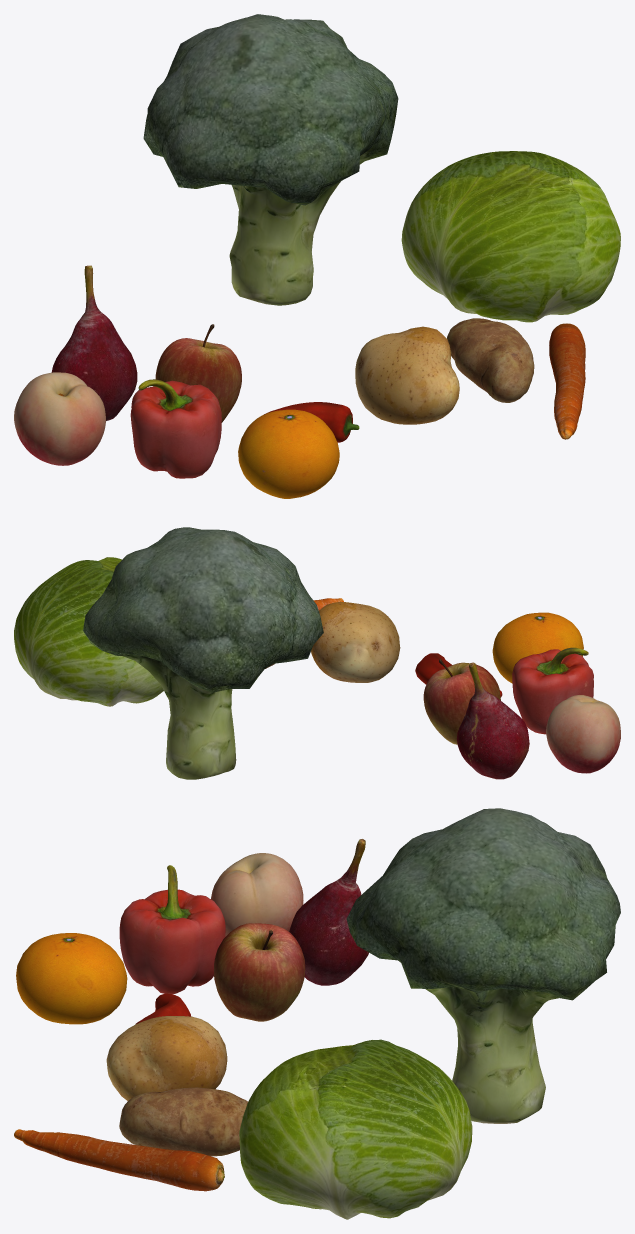
The model's file is produce.glb.
3 views of the same model, one above another, from view 1: azimuth 30°, elevation 25°; view 2: azimuth 150°, elevation 25°; view 3: azimuth 270°, elevation 25° (orthographic). The views are drawn at different scales.
Visible parts, largest first — view 1: Broccoli, Cabbage, Potato, Red Bell Pepper, Mandarin Orange, Peach, Red Pear, Russet Potato, Apple, Carrot, Red Pepper; view 2: Broccoli, Cabbage, Potato, Red Pear, Red Bell Pepper, Peach, Mandarin Orange, Apple, Red Pepper; view 3: Broccoli, Cabbage, Red Bell Pepper, Mandarin Orange, Potato, Apple, Russet Potato, Carrot, Red Pear, Peach, Red Pepper.
Part boxes in pixels (<box>): Broccoli: <box>143,14,398,305</box>; Cabbage: <box>401,151,620,322</box>; Potato: <box>355,326,459,424</box>; Red Bell Pepper: <box>130,379,221,478</box>; Mandarin Orange: <box>238,409,339,498</box>; Peach: <box>14,372,105,465</box>; Red Pear: <box>51,265,137,420</box>; Russet Potato: <box>447,318,534,402</box>; Apple: <box>155,324,241,422</box>; Carrot: <box>549,323,585,439</box>; Red Pepper: <box>264,402,359,442</box>; Broccoli: <box>83,527,323,779</box>; Cabbage: <box>14,557,163,706</box>; Potato: <box>311,602,400,682</box>; Red Pear: <box>457,662,529,779</box>; Red Bell Pepper: <box>512,647,593,734</box>; Peach: <box>546,695,620,773</box>; Mandarin Orange: <box>492,612,583,683</box>; Apple: <box>423,658,500,744</box>; Red Pepper: <box>415,653,502,697</box>; Broccoli: <box>346,808,620,1123</box>; Cabbage: <box>239,1039,472,1219</box>; Red Bell Pepper: <box>119,865,225,993</box>; Mandarin Orange: <box>16,933,127,1024</box>; Potato: <box>106,1016,227,1100</box>; Apple: <box>214,923,305,1021</box>; Russet Potato: <box>119,1087,247,1156</box>; Carrot: <box>14,1129,224,1191</box>; Red Pear: <box>289,839,368,985</box>; Peach: <box>211,853,303,936</box>; Red Pepper: <box>135,993,191,1024</box>.
Bounding box in the file's own units: 57.47 × 24.09 × 45.55.
Materials: 11 (11 with a texture image).
